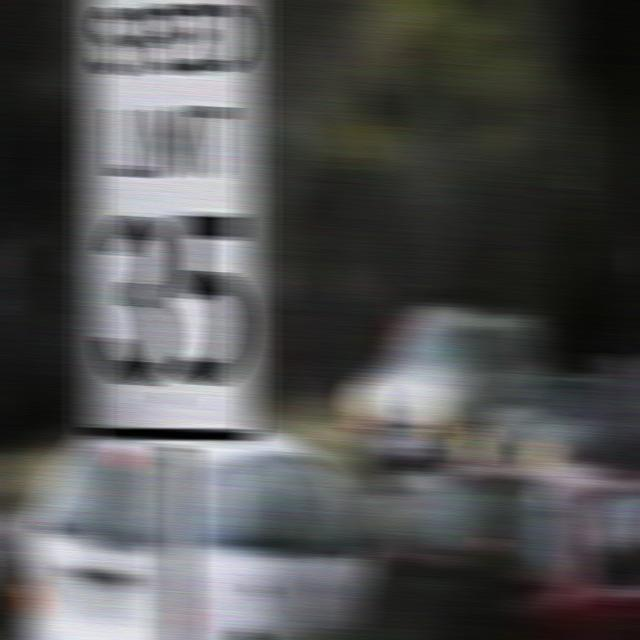speedLimit35: (83, 8, 265, 440)
